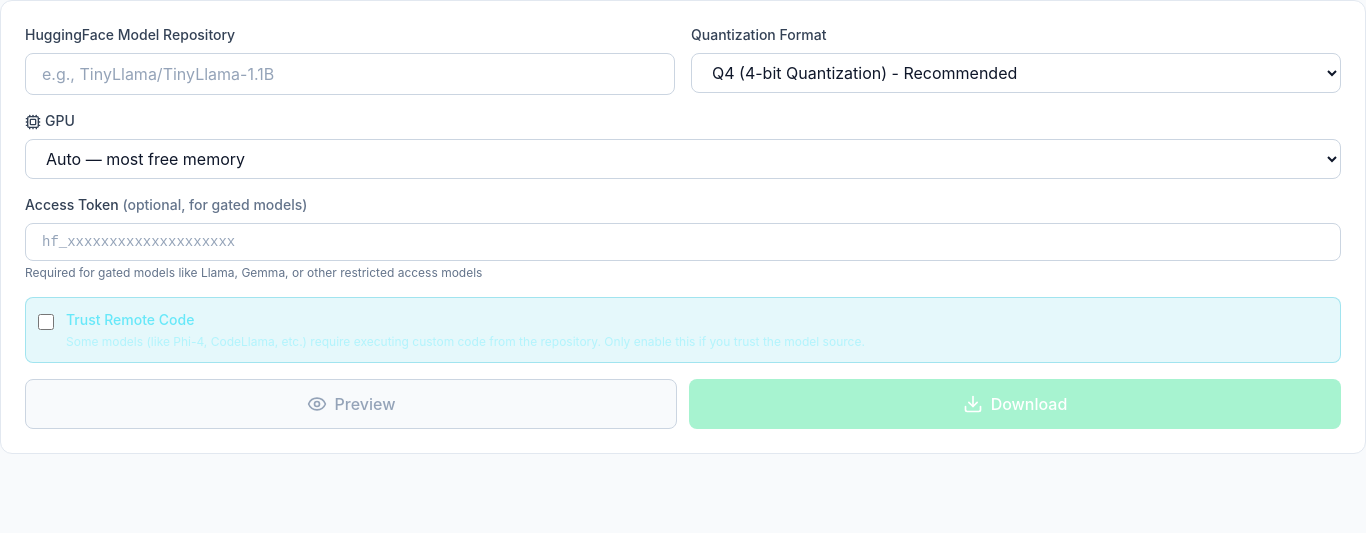
ModelDownloadForm › Validation › should clear validation error when input is corrected
The width and height of the screenshot is (1366, 533).
# Trigger validation error
Step 1. Type "invalid" into the field labelled "HuggingFace Model Repository" → x=350, y=74, box x1=25 y1=53 x2=675 y2=95
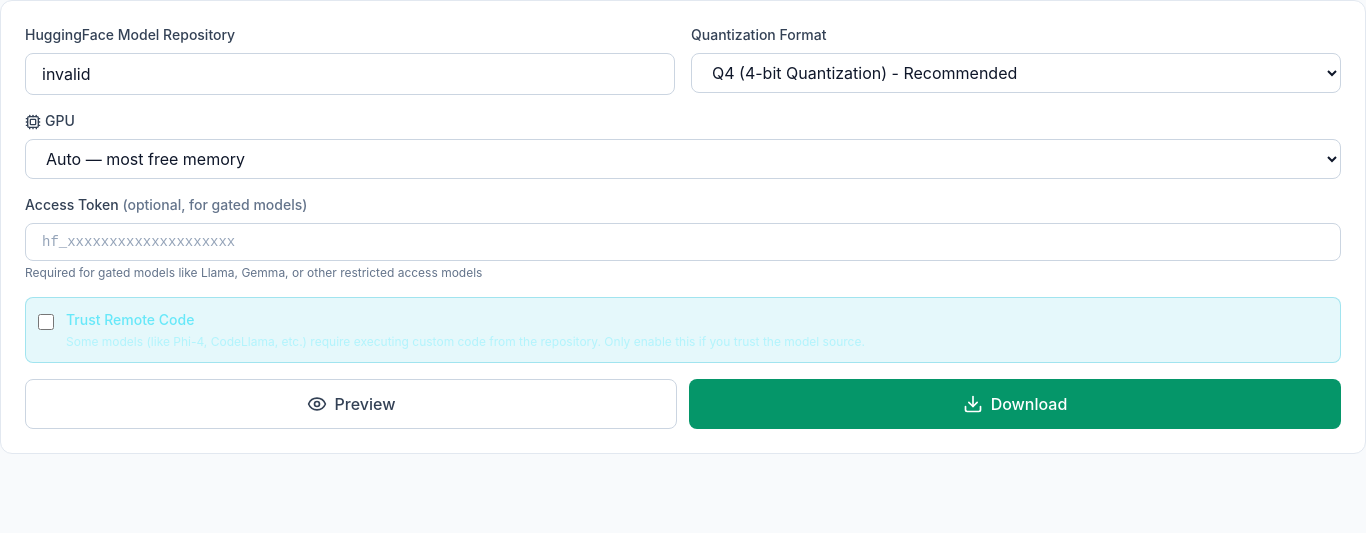
Step 2. Click the button "Download" → x=1015, y=404, box x1=689 y1=379 x2=1341 y2=429
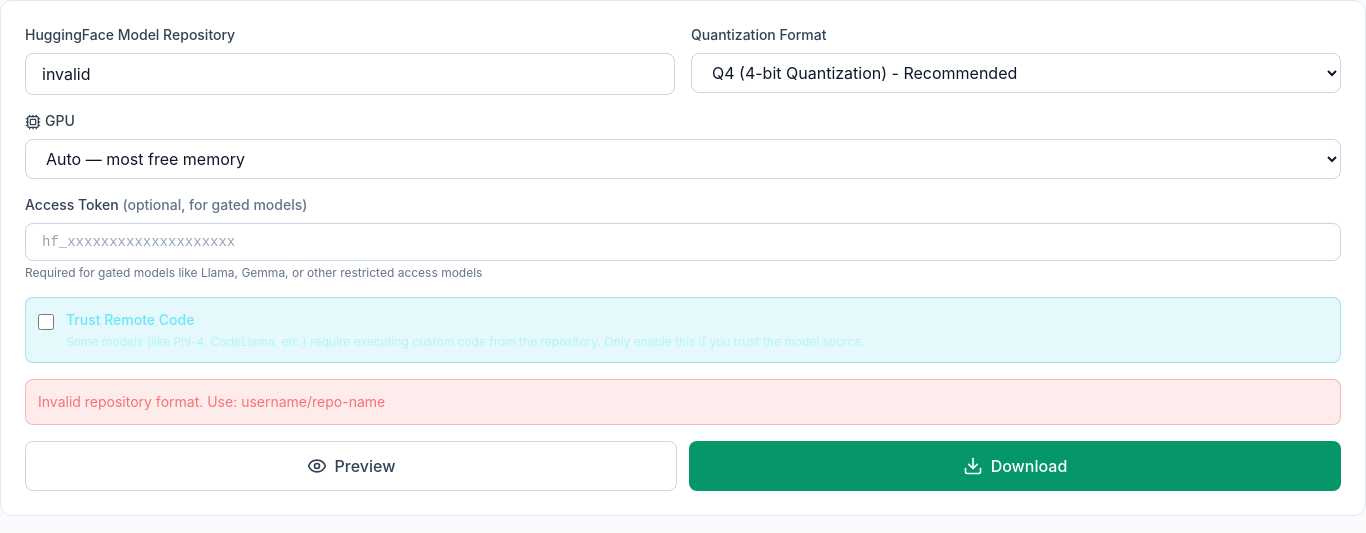
Expected: the text "Invalid repository format. Use: username/repo-name" is shown, x1=25 y1=379 x2=1341 y2=425
# Correct the input
Step 3. Replace the text in the field labelled "HuggingFace Model Repository" with "valid/repo" → x=350, y=74, box x1=25 y1=53 x2=675 y2=95
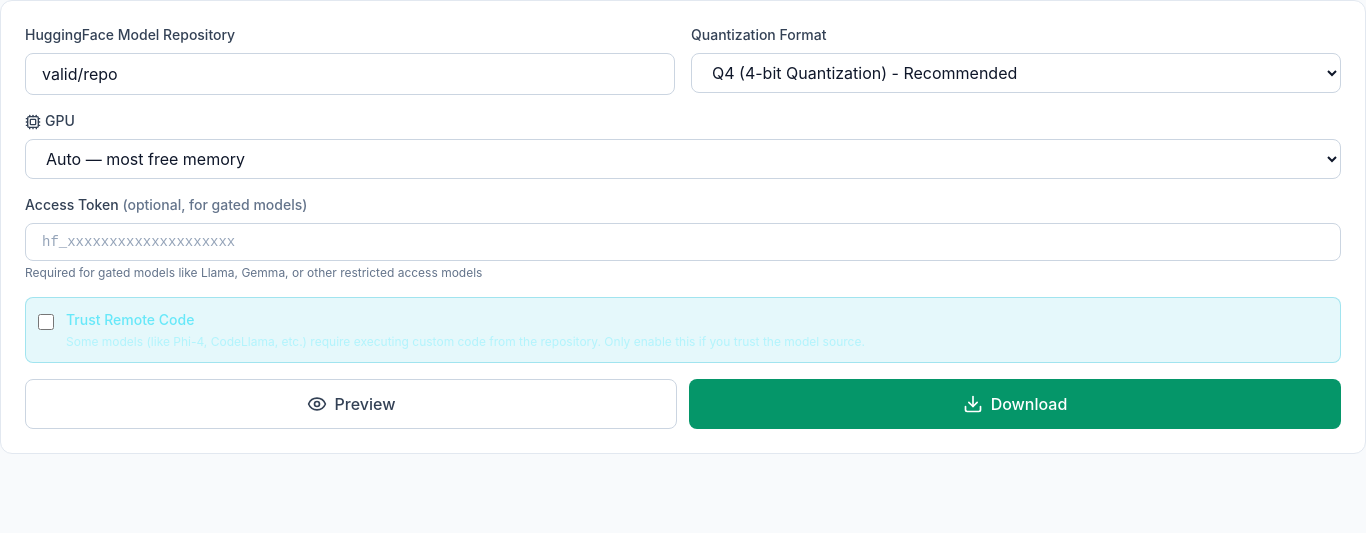
Expected: the text "Invalid repository format" is gone
